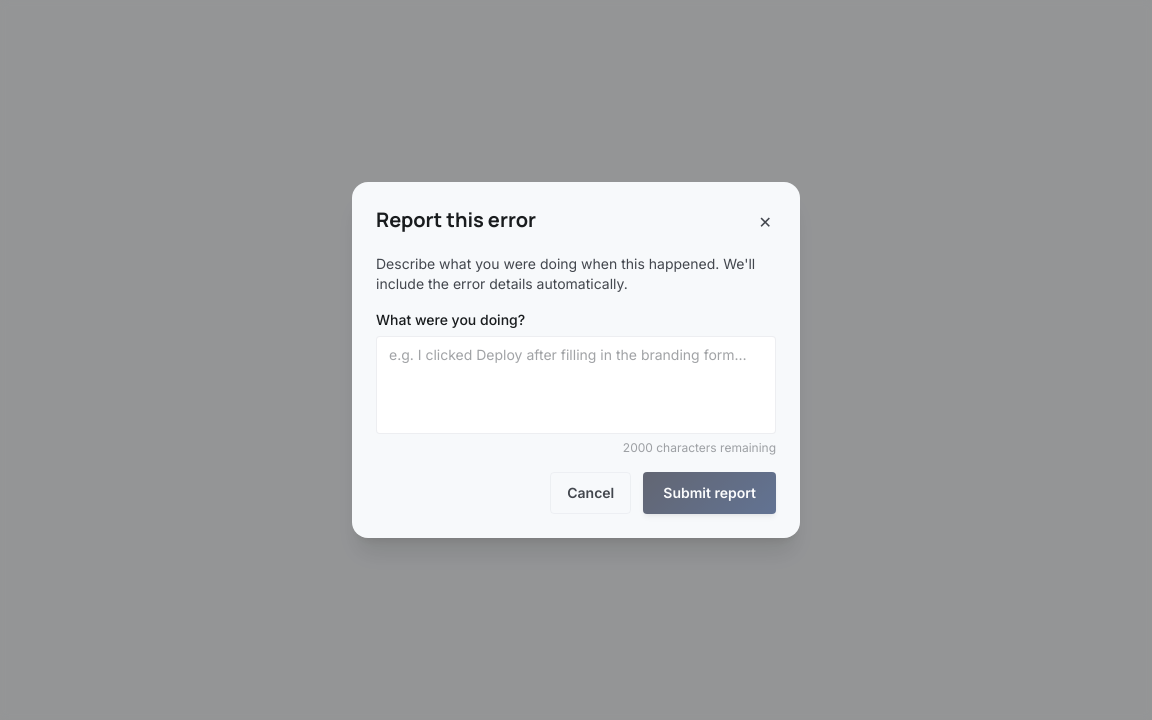
Scenario: ErrorReportForm › enables submit button when description is filled
Type "I clicked deploy" into the text box labelled "What were you doing?". click: coordinates (576, 385)
box: [376,336,776,434]
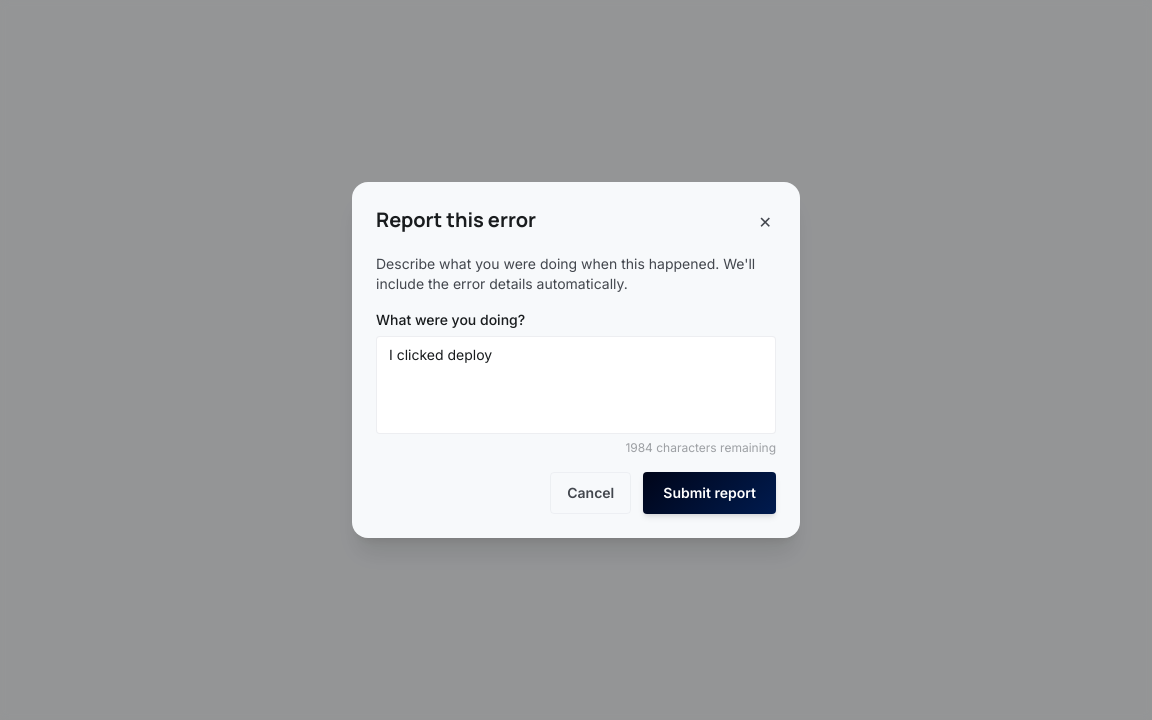
Now the button "Submit report" is enabled, box [643,472,776,514]
